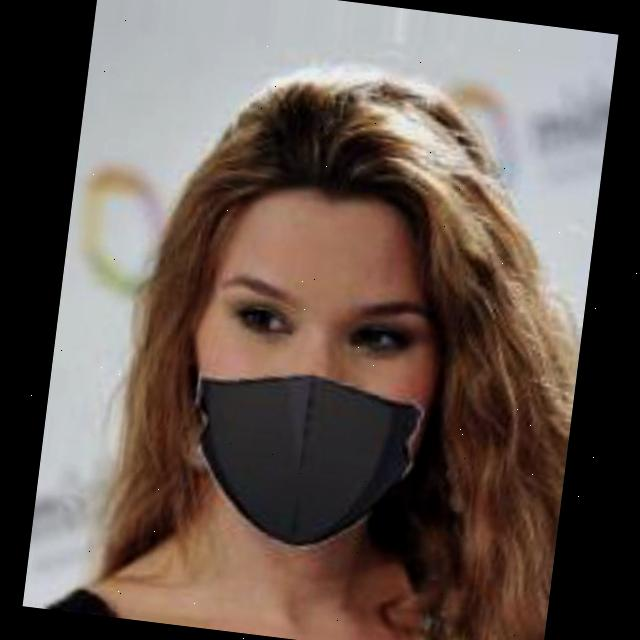suspicion: (96, 120, 508, 550)
